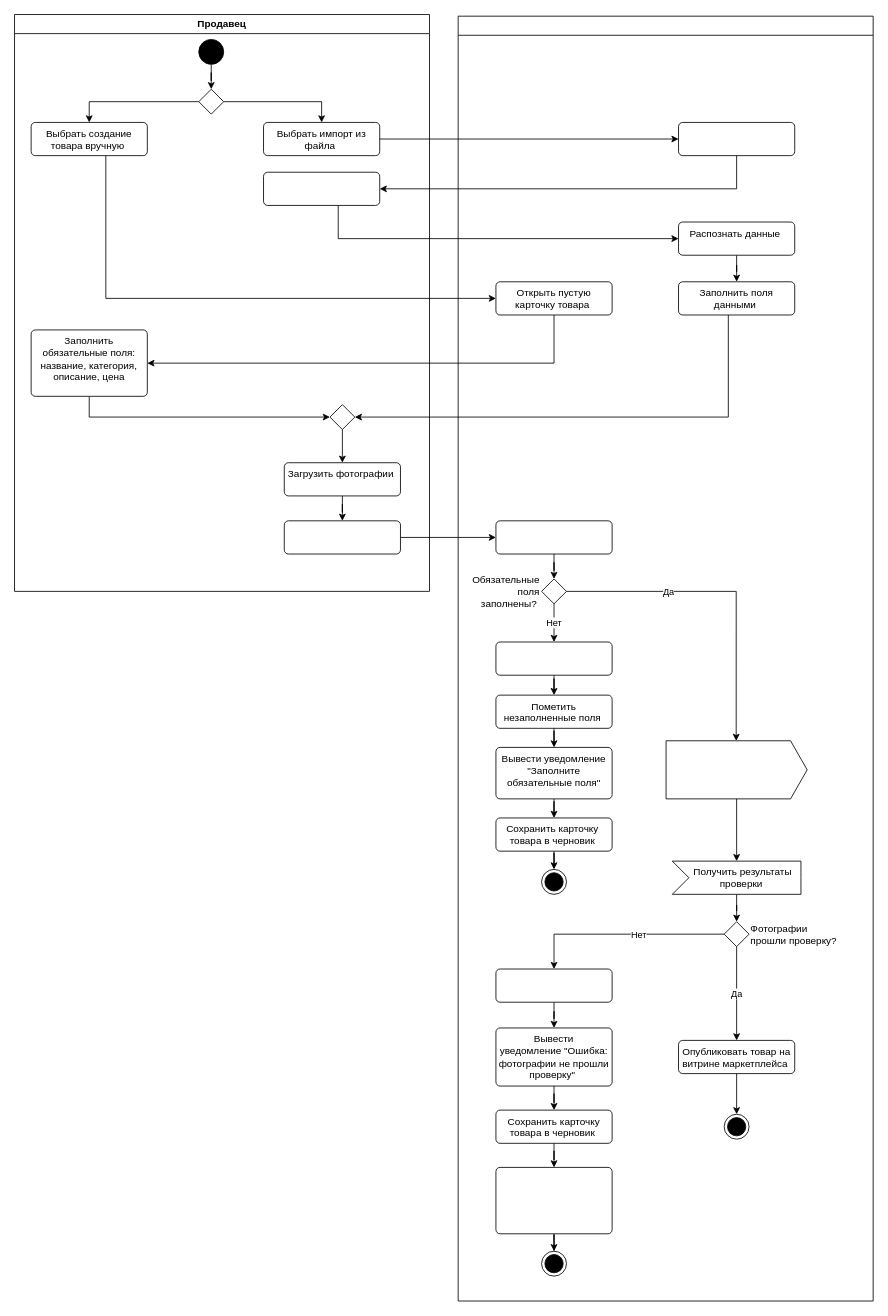
Image size: 888x1316. Some labels were removed from this diagram. The shapes that lost their labels are listed below. From the top down, each one's box as (x1, y1, x2, y2) in pixels, then its label:
(678, 122, 795, 156): Открыть форму загрузки
(263, 171, 380, 205): Загрузить файлы в систему
(283, 520, 400, 554): Запустить публикацию
(495, 520, 612, 554): Проверить обязательные поля
(495, 641, 612, 675): Определить какие поля не заполнены
(457, 15, 873, 1301): Система
(665, 740, 807, 799): Отправить фотографии на проверку
(495, 968, 612, 1002): Определить тип нарушения
(495, 1167, 612, 1234): Вернуть продавца на страницу загрузки фотографий с описанием типа нарушения
